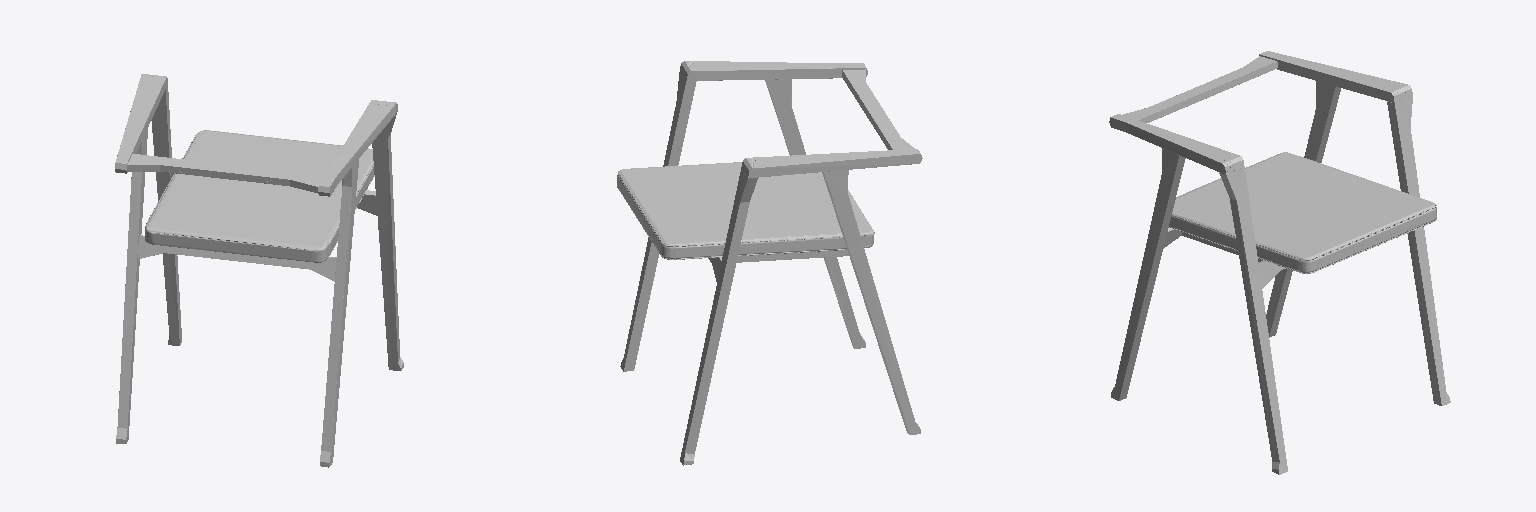
Rendered from chair.obj.
3 renders of one model, left to right at view 1: azimuth 30°, elevation 25°; view 2: azimuth 150°, elevation 25°; view 3: azimuth 270°, elevation 25°, orthographic.
Visible parts, largest first — view 1: 832_02_SCHIENALE1.005_Mesh.009; view 2: 832_02_SCHIENALE1.005_Mesh.009; view 3: 832_02_SCHIENALE1.005_Mesh.009.
Boxes of the visible parts, <box> form: 832_02_SCHIENALE1.005_Mesh.009: <box>115,74,403,467</box>; 832_02_SCHIENALE1.005_Mesh.009: <box>617,61,922,465</box>; 832_02_SCHIENALE1.005_Mesh.009: <box>1109,51,1450,474</box>.
Size of the model in its own units: 0.6461 by 0.6134 by 0.6461.